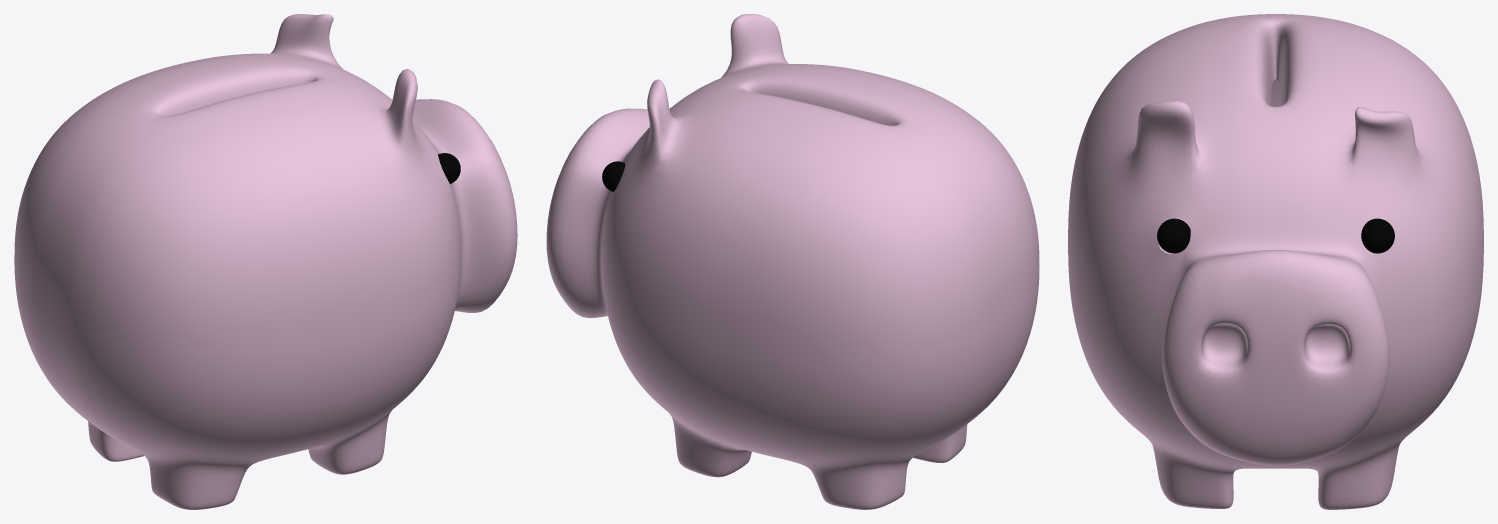
File: pig.fbx
3 views of the same model, side by side, from view 1: azimuth 30°, elevation 25°; view 2: azimuth 150°, elevation 25°; view 3: azimuth 270°, elevation 25° (orthographic). The views are drawn at different scales.
Parts seen in each view (by area): view 1: pig; view 2: pig; view 3: pig.
Boxes of the visible parts, left/top/right/bottom form: pig: left=14, top=14, right=517, bottom=509; pig: left=546, top=14, right=1039, bottom=509; pig: left=1068, top=14, right=1483, bottom=509.
Bounding box in the file's own units: 1278 × 1089 × 972.
